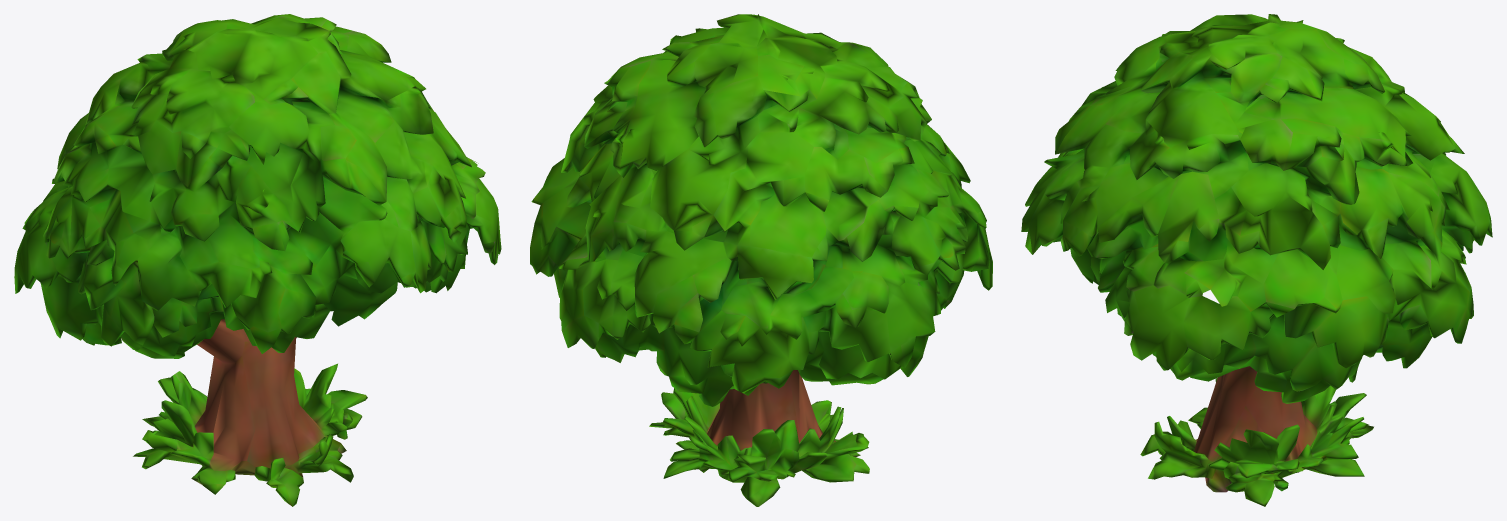
Rendered from tt_bigoak.glb.
3 views of the same model, side by side, from view 1: azimuth 30°, elevation 25°; view 2: azimuth 150°, elevation 25°; view 3: azimuth 270°, elevation 25° (orthographic). The views are drawn at different scales.
Parts seen in each view (by area): view 1: tree; view 2: tree; view 3: tree.
Boxes of the visible parts, x1,y1,x2,y2 form: tree: (14, 14, 501, 506); tree: (530, 14, 992, 506); tree: (1021, 14, 1492, 506).
Bounding box in the file's own units: 1 × 1 × 0.9822.
Materials: 1 (1 with a texture image).
